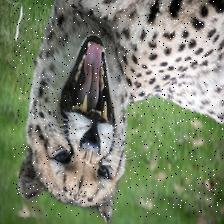Cheetha: (14, 0, 224, 216)
